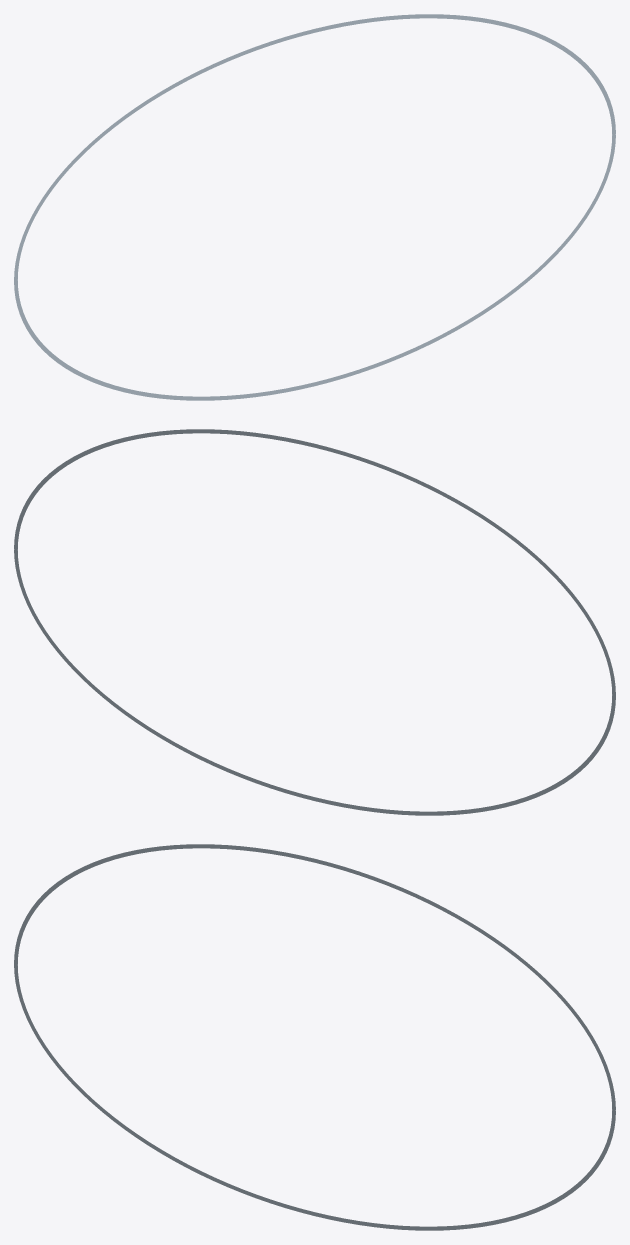
Rendered from Keqing_StarwardSword_CancelAfterCombo_InitialElectroDomain.fbx.
The picture shows the model from 3 angles, top to bottom: view 1: azimuth 30°, elevation 25°; view 2: azimuth 150°, elevation 25°; view 3: azimuth 330°, elevation 25°; orthographic projection.
Parts seen in each view (by area): view 1: PART_OpeningElectroDomainEdge; view 2: PART_OpeningElectroDomainEdge; view 3: PART_OpeningElectroDomainEdge.
Boxes of the visible parts, x1,y1,x2,y2 form: PART_OpeningElectroDomainEdge: (14, 14, 615, 400); PART_OpeningElectroDomainEdge: (14, 429, 615, 815); PART_OpeningElectroDomainEdge: (14, 844, 615, 1230).
Bounding box in the file's own units: 881 × 500 × 8.15e-05.
